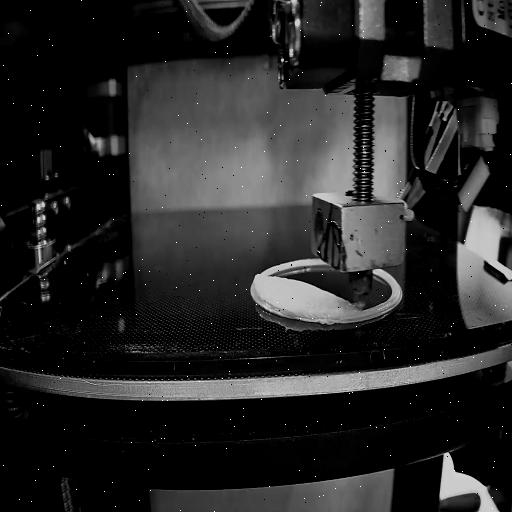over_extrusion: (250, 268, 266, 302)
